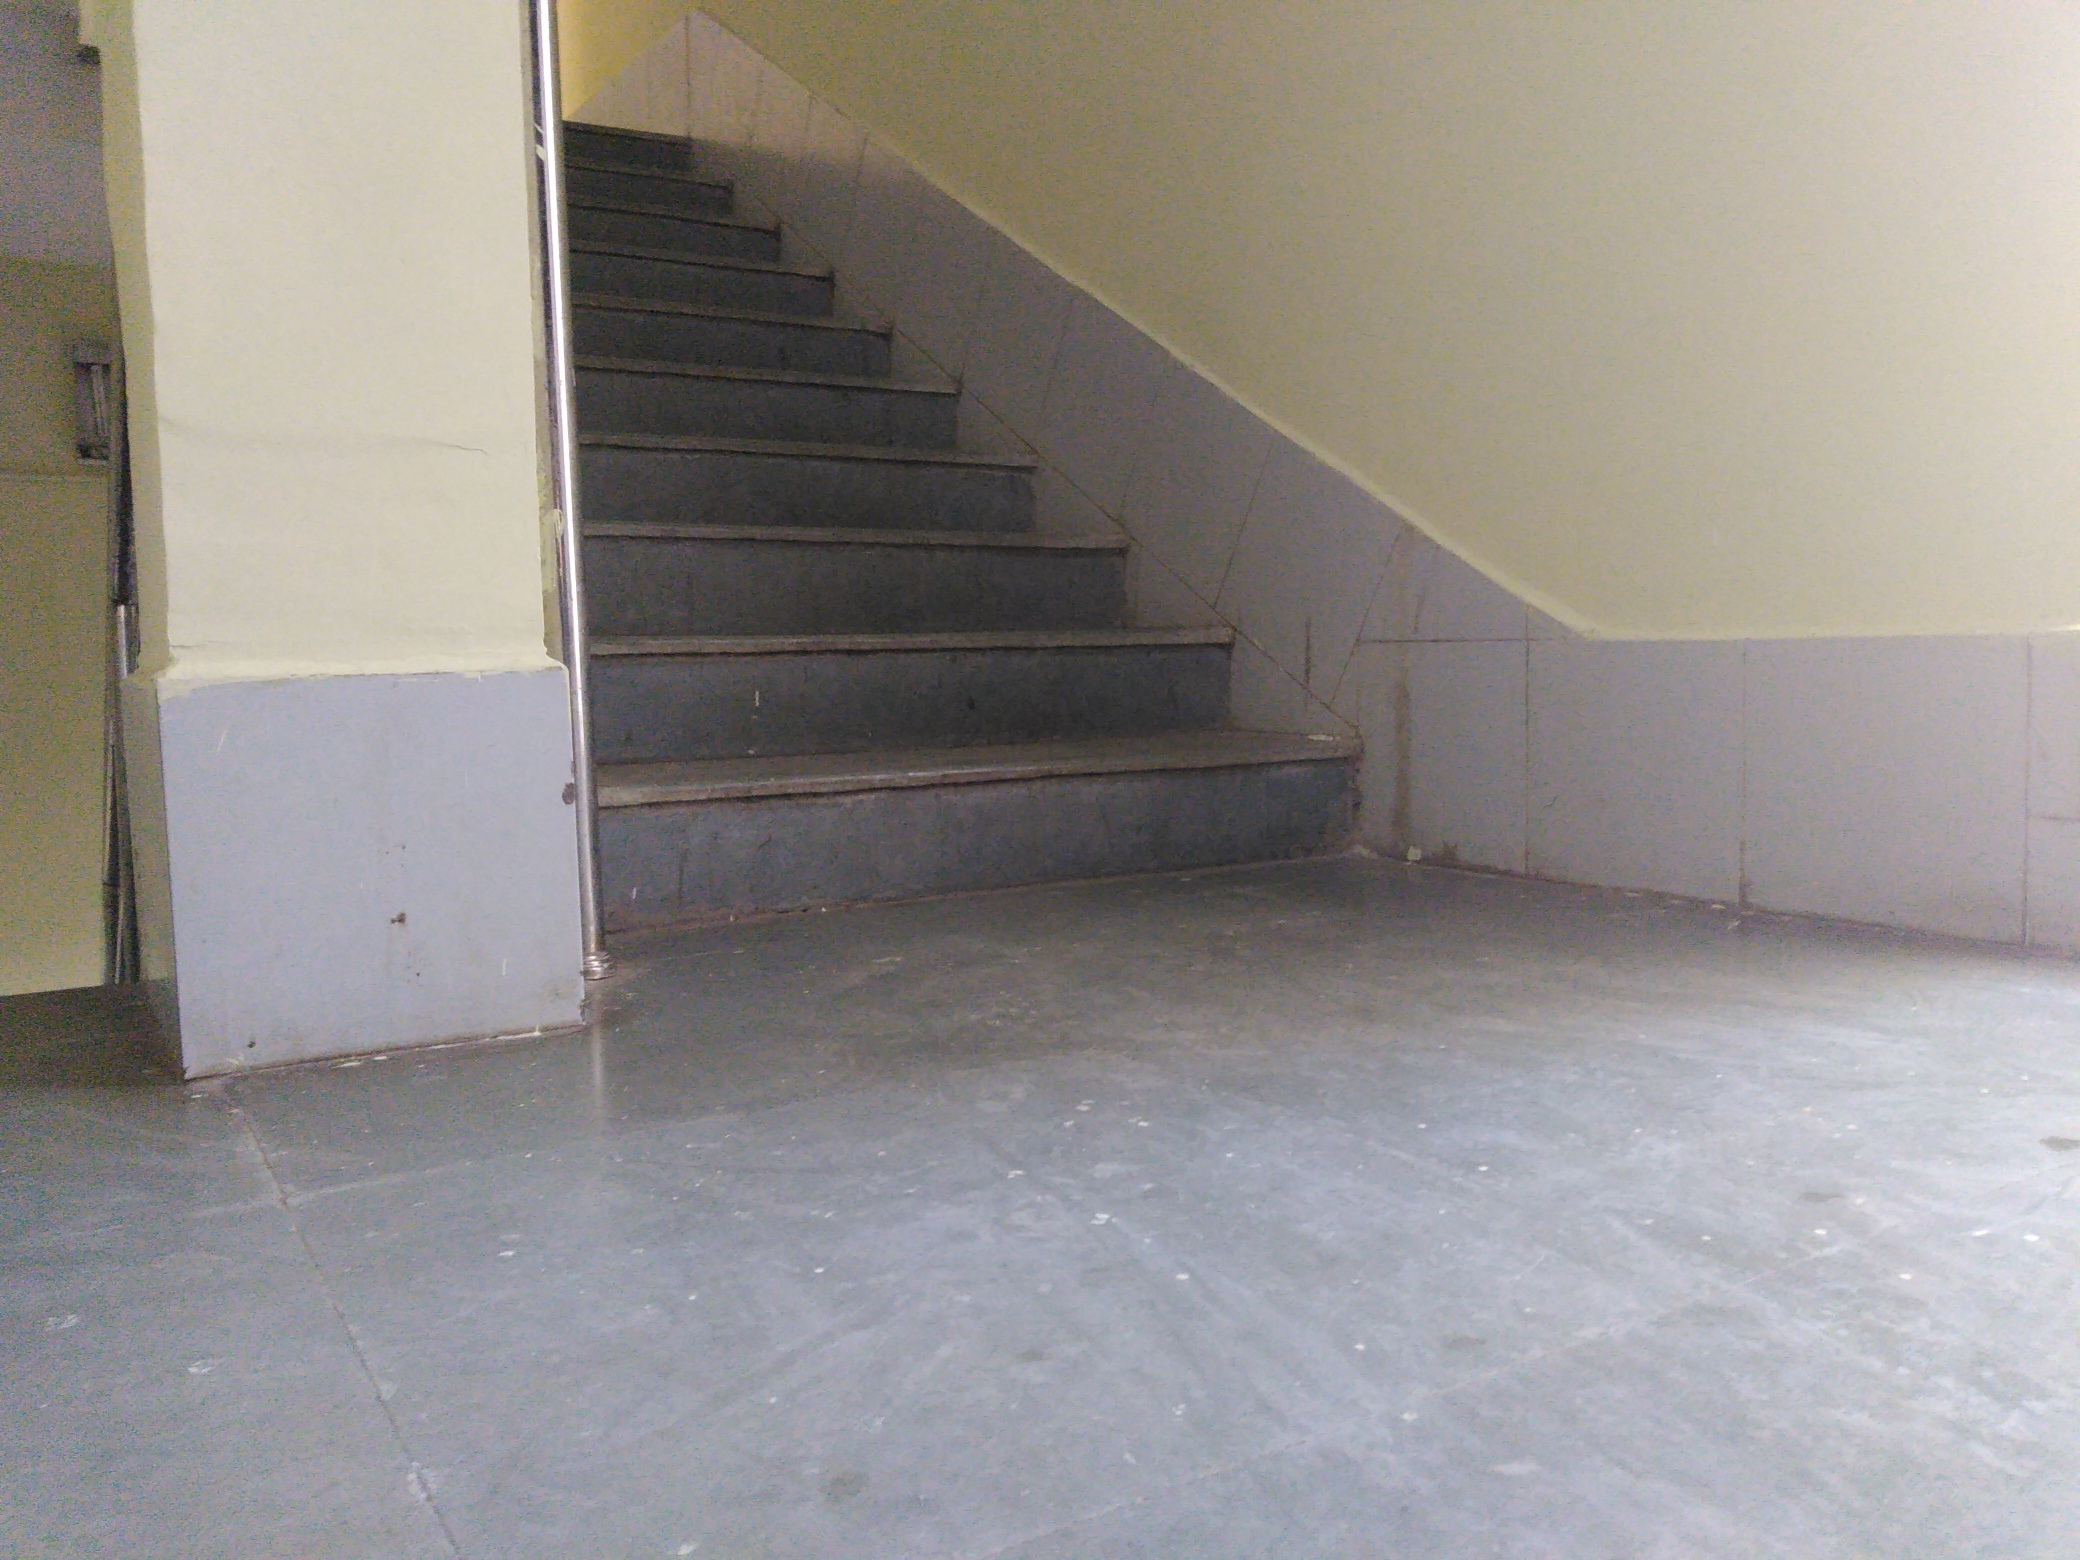stairs_up: (563, 116, 1343, 923)
